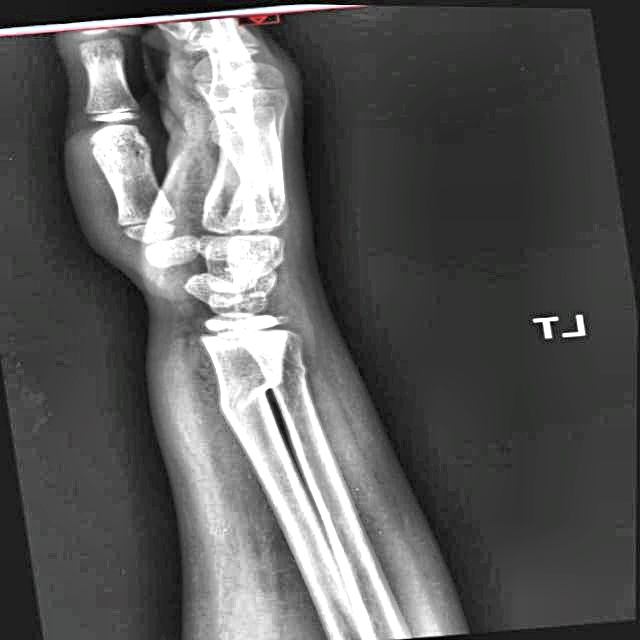Greenstick: (229, 362, 294, 414)
